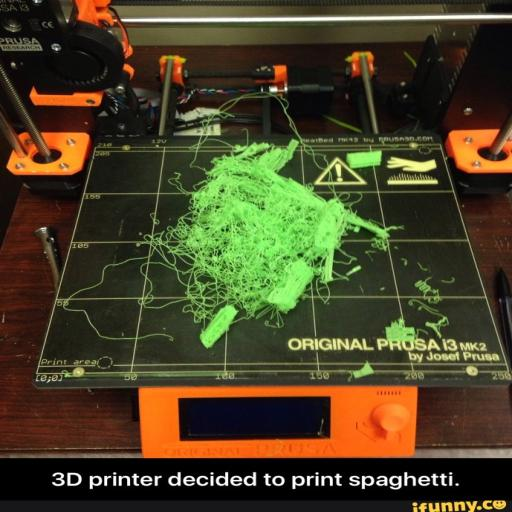spaghetti: (167, 128, 391, 339)
